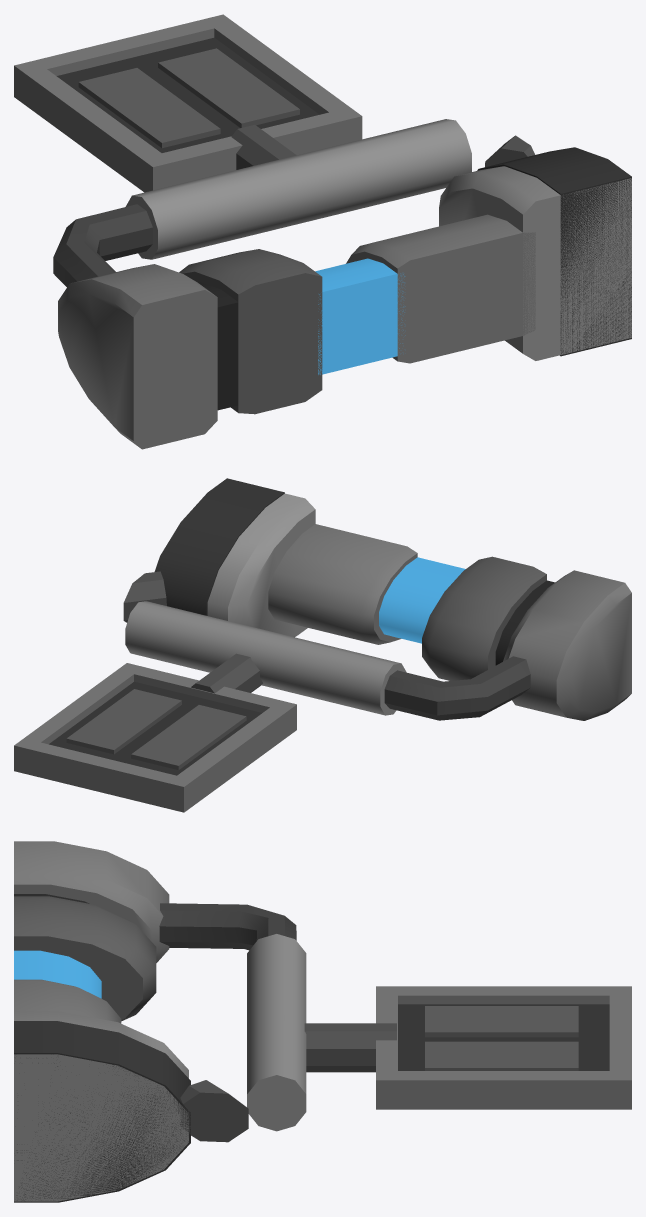
The model's file is newshl-7.glb.
3 views of the same model, one above another, from view 1: azimuth 30°, elevation 25°; view 2: azimuth 150°, elevation 25°; view 3: azimuth 270°, elevation 25° (orthographic). The views are drawn at different scales.
Parts seen in each view (by area): view 1: newshl-7; view 2: newshl-7; view 3: newshl-7.
Part boxes in pixels (left/top/right/bottom): newshl-7: left=14, top=14, right=631, bottom=449; newshl-7: left=14, top=478, right=631, bottom=812; newshl-7: left=14, top=841, right=631, bottom=1202.
Bounding box in the file's own units: 1.98 × 0.6179 × 2.31.
